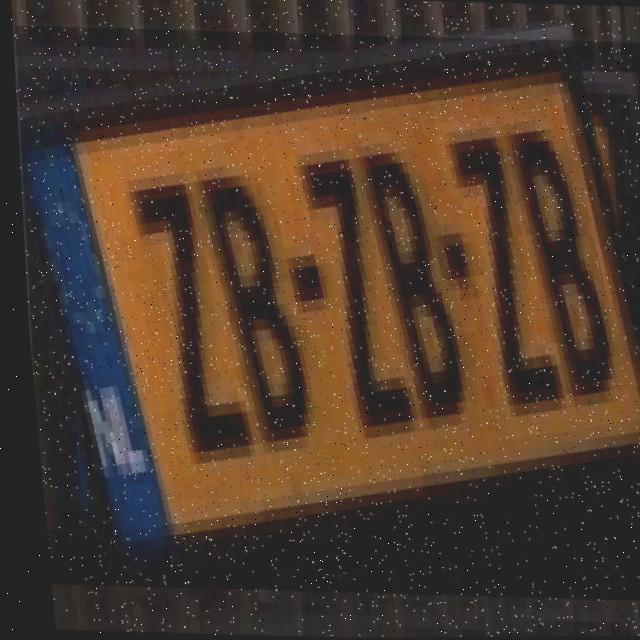LicensePlate: (2, 21, 640, 606)
